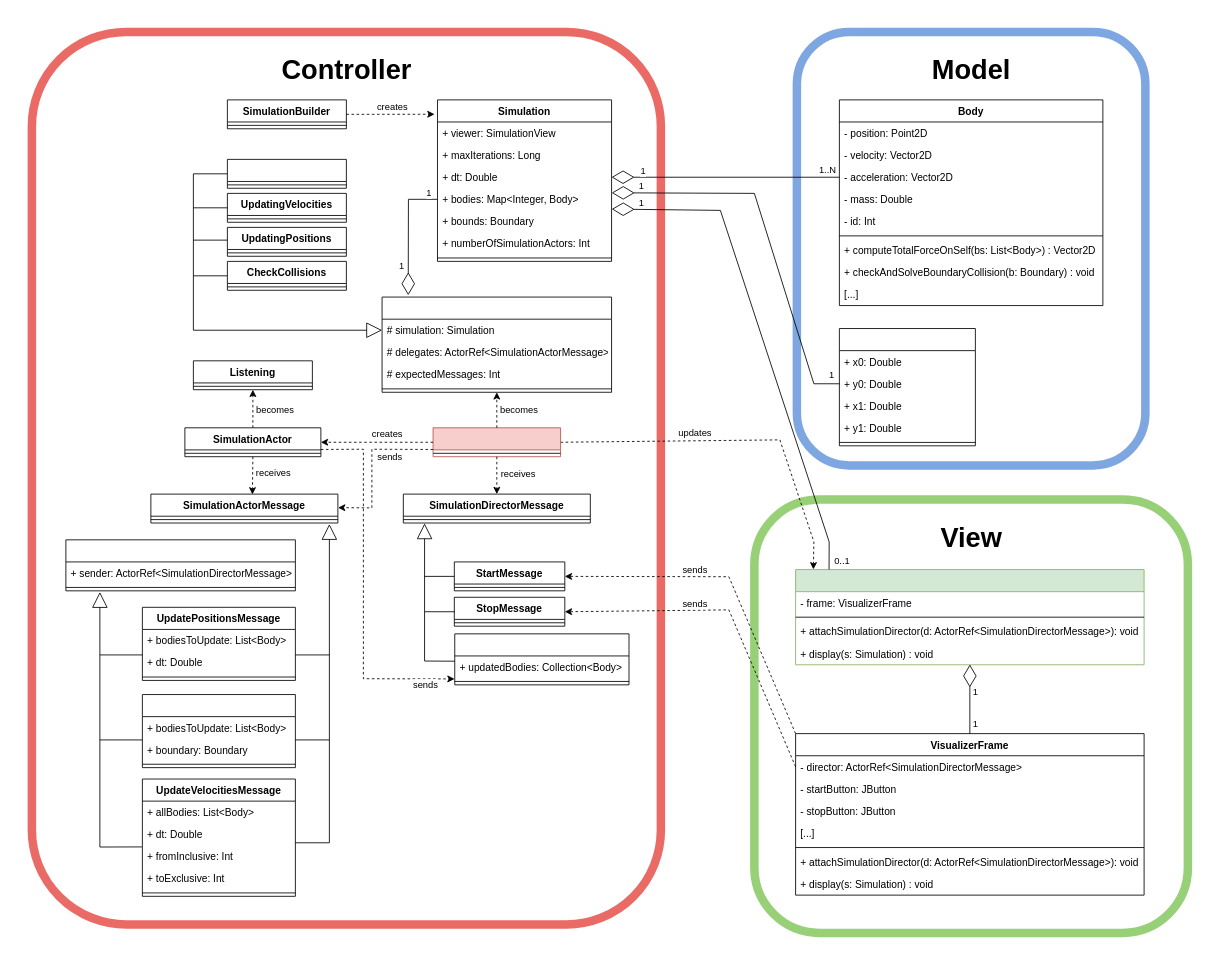
Image size: 1219x964. Some labels were removed from this diagram. Each missing label, with the box of its shape:
Awaiting: (227, 159, 346, 188)
Boundary: (839, 328, 975, 446)
CheckCollisionsMessage: (142, 694, 295, 768)
ResultMessage: (454, 633, 629, 685)
SimulationBehavior: (381, 296, 612, 392)
SimulationDirector: (432, 427, 561, 457)
SimulationView: (795, 569, 1144, 665)
WithSender: (65, 539, 295, 591)
